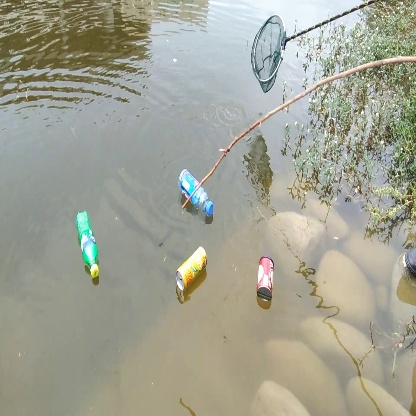bottle: (71, 210, 107, 281), (177, 166, 218, 220), (171, 245, 210, 296), (253, 254, 279, 303)
